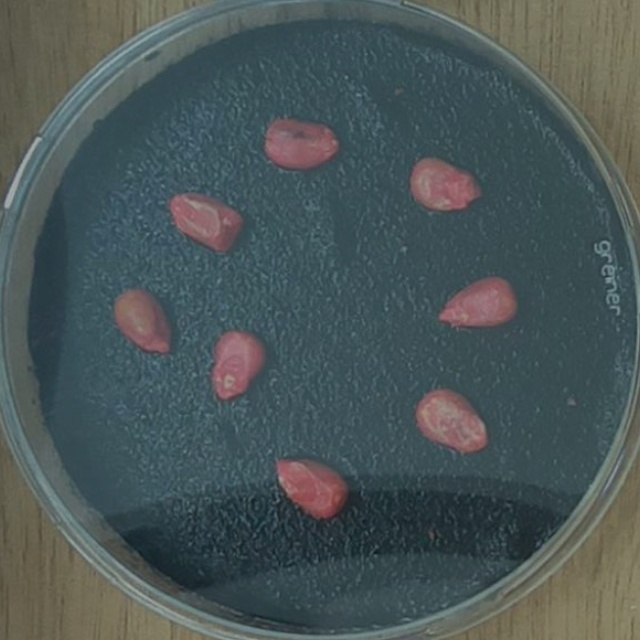Zea mays: (159, 181, 253, 260), (407, 378, 498, 459), (268, 448, 357, 527), (204, 320, 275, 410), (430, 265, 525, 332), (105, 280, 180, 363), (403, 148, 490, 219), (255, 110, 345, 175)
